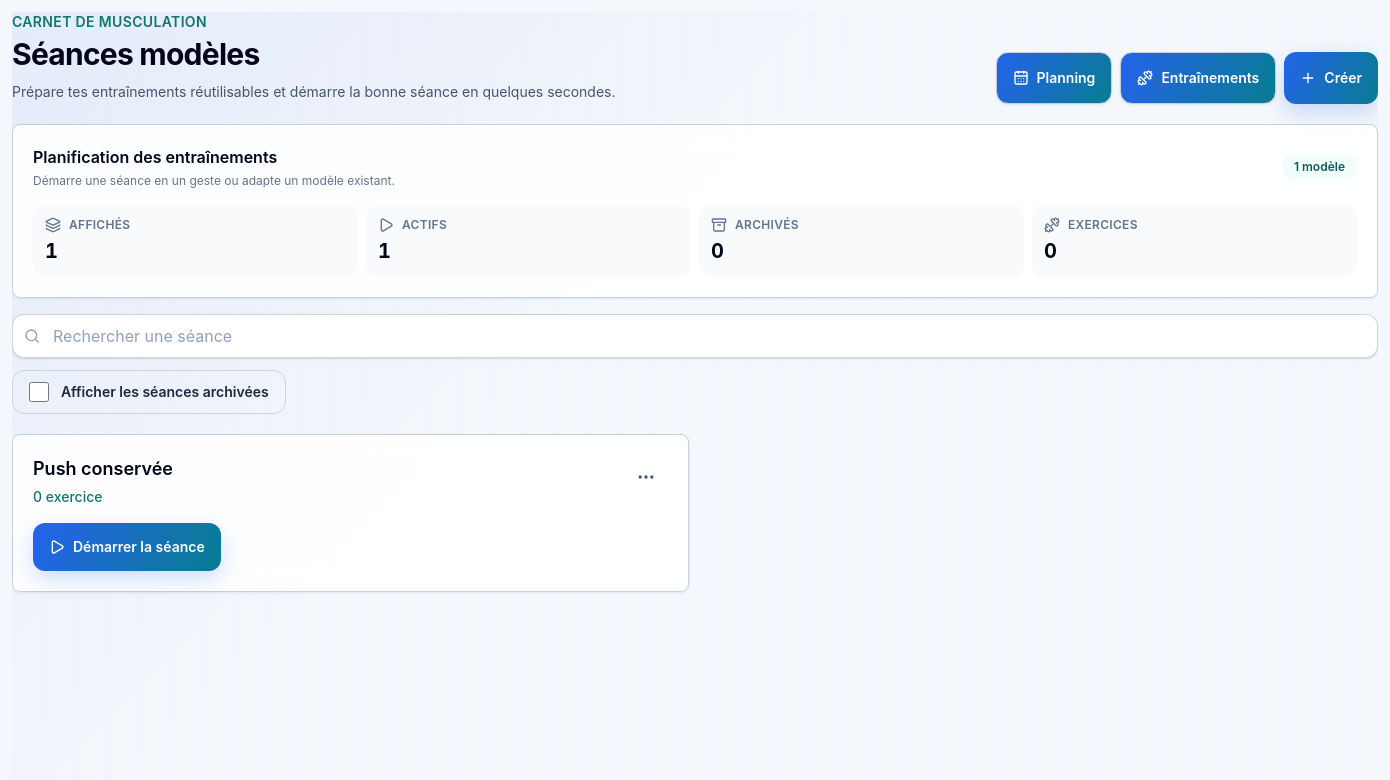
WorkoutTemplatesPage › garde une erreur locale unique lorsque la duplication échoue
What coordinates should you click on to do the following:
click the button named "Actions pour Push conservée"
I would click on:
 (646, 477)
Its box is [624,455,668,499].
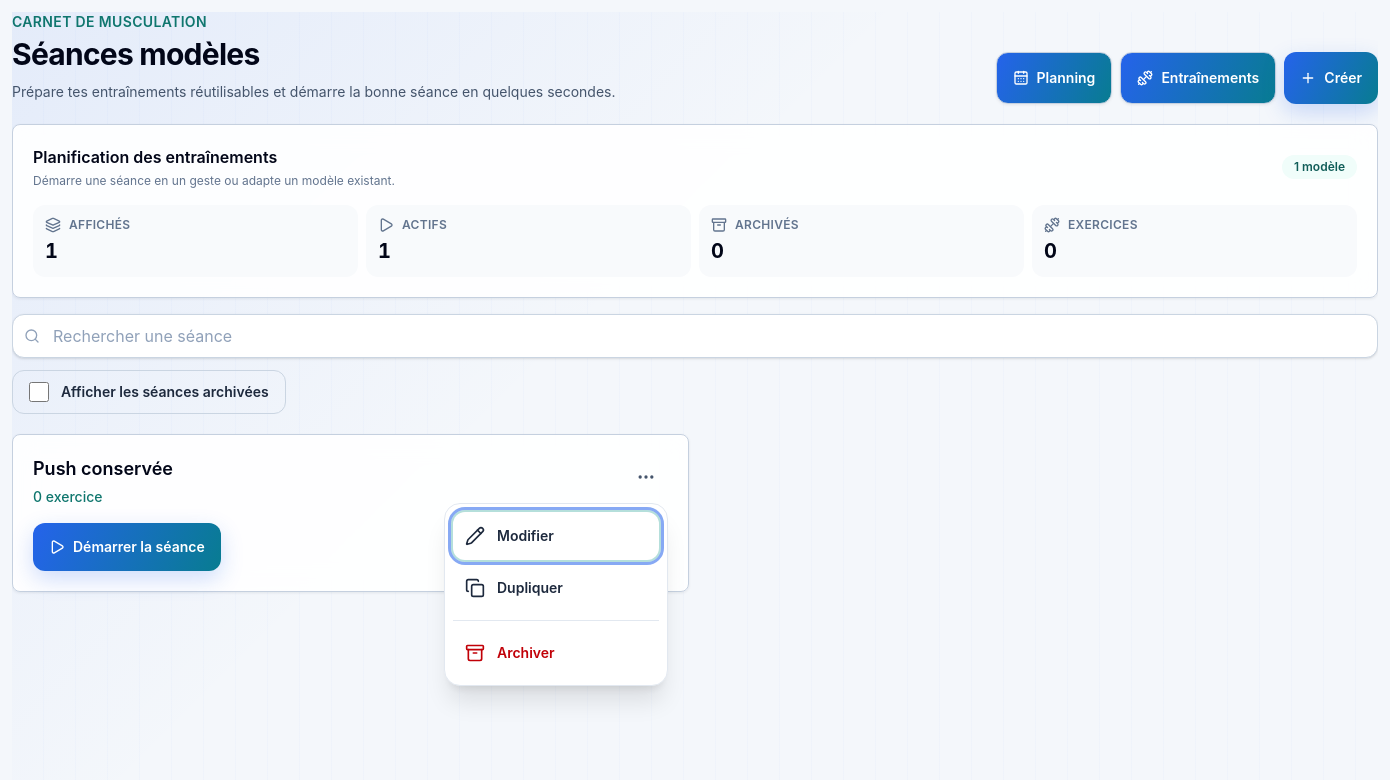
What coordinates should you click on to do the following:
click the menu item "Dupliquer"
I would click on:
 (556, 588)
Its box is [453,564,659,612].
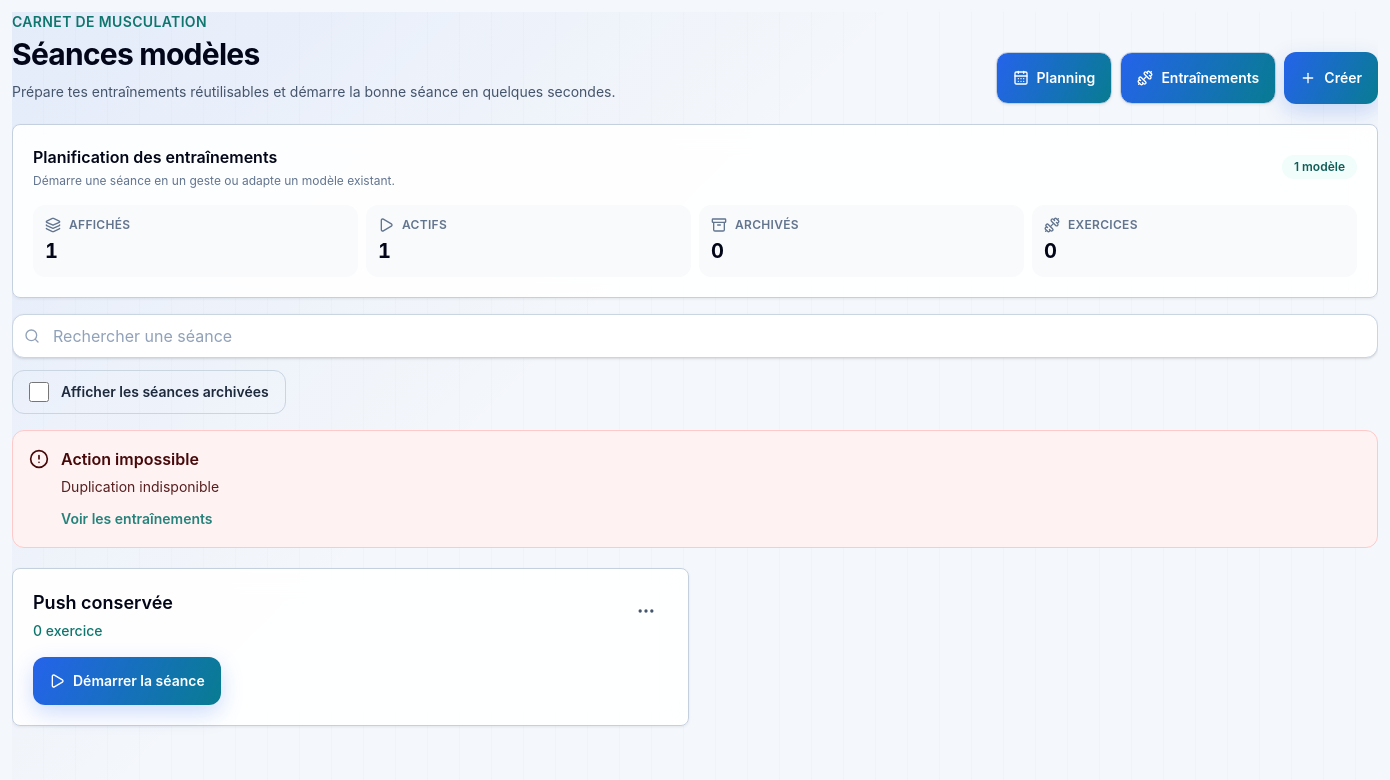
Now the text "Duplication indisponible" is shown, box [61,475,219,499]
Now the number of messages is 1, box [12,430,1378,548]
